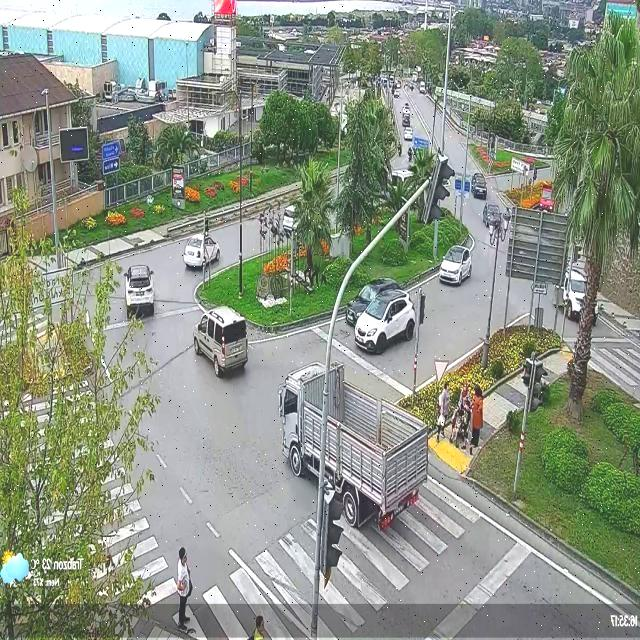Car: (191, 310, 255, 374), (354, 293, 419, 353), (340, 274, 403, 316), (557, 264, 598, 324), (122, 261, 159, 315), (431, 242, 475, 284), (180, 233, 223, 272), (278, 208, 306, 239), (470, 162, 491, 202), (404, 123, 422, 143)
Truck: (278, 357, 432, 526)
